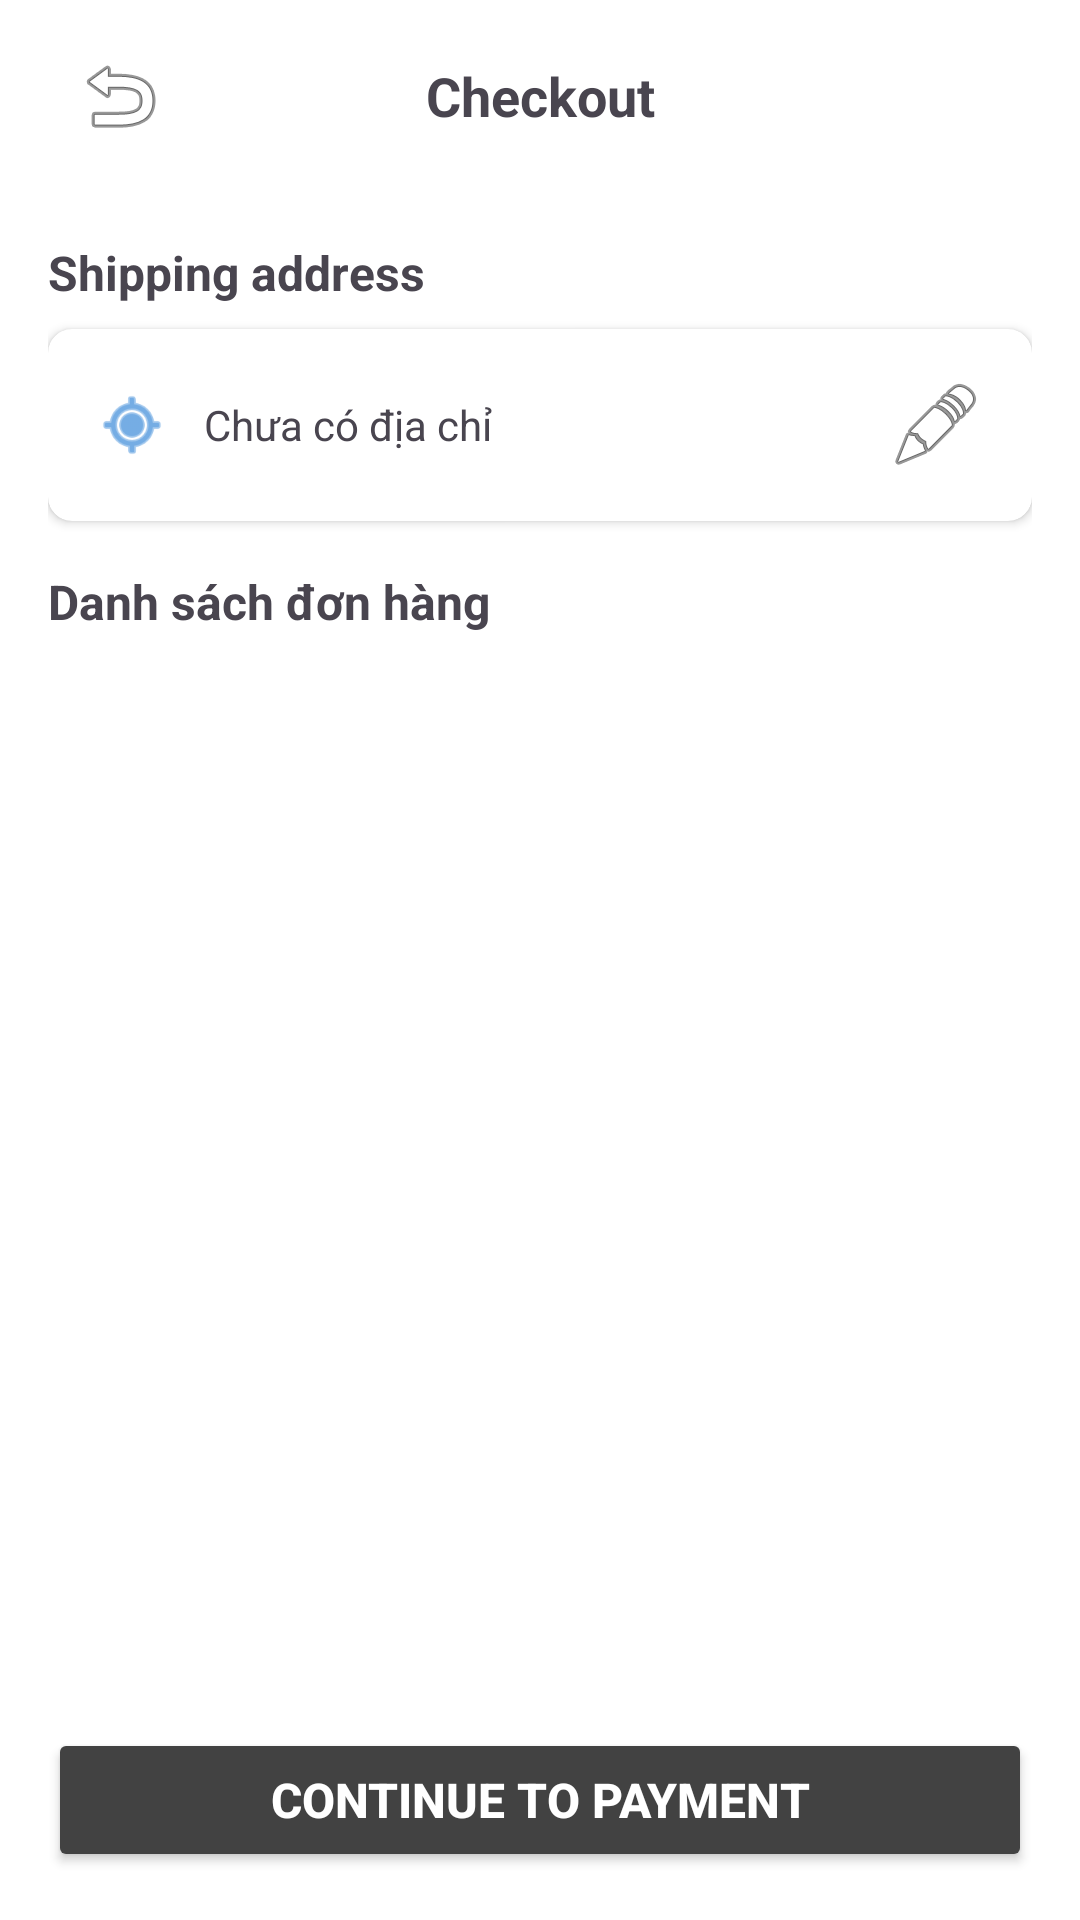

Icons on this 1080px×1920px Android screen, each with the point to tap as [x,y]:
Back: [121,96]
Edit address: [935,424]
Location: [132,425]
